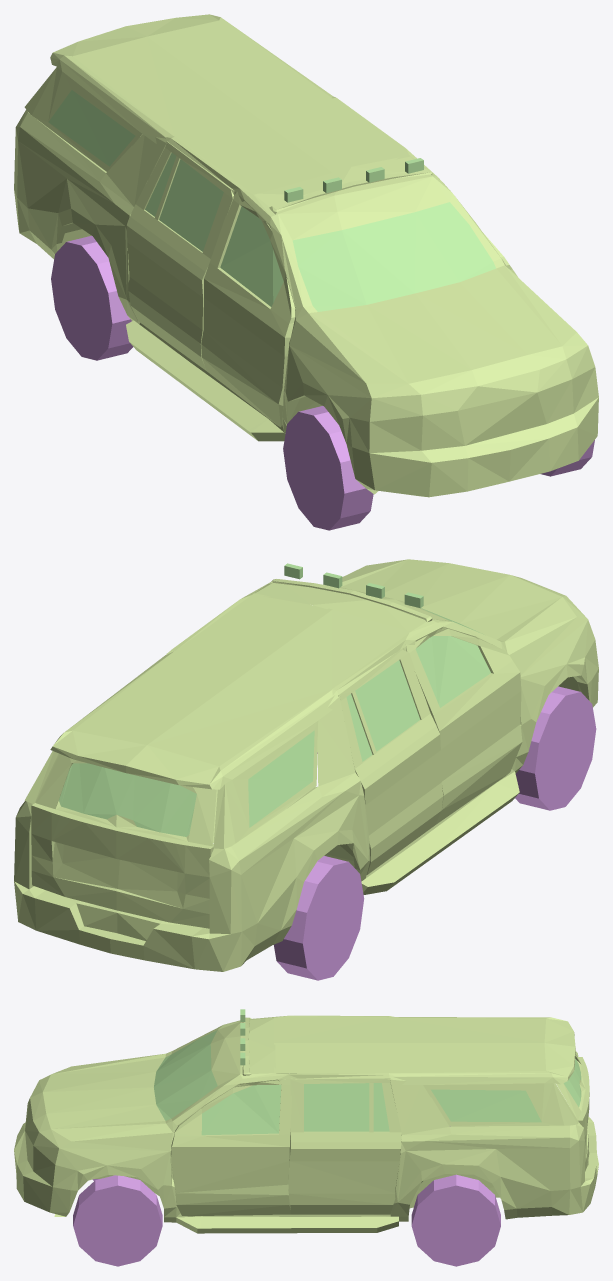
The model's file is land-wheeled-patriot-kodiak.glb.
The picture shows the model from 3 angles, top to bottom: view 1: azimuth 30°, elevation 25°; view 2: azimuth 150°, elevation 25°; view 3: azimuth 270°, elevation 25°; orthographic projection. The views are drawn at different scales.
Parts seen in each view (by area): view 1: CC_WHL_02_SUVBody, CC_WHL_02_Wheel_R_1, CC_WHL_02_Wheel_R_3; view 2: CC_WHL_02_SUVBody, CC_WHL_02_Wheel_R_3, CC_WHL_02_Wheel_R_1; view 3: CC_WHL_02_SUVBody, CC_WHL_02_Wheel_R_2, CC_WHL_02_Wheel_R_0.
Part boxes in pixels (x1=…): CC_WHL_02_SUVBody: x1=14, y1=14, x2=598, y2=497; CC_WHL_02_Wheel_R_1: x1=283, y1=406, x2=373, y2=530; CC_WHL_02_Wheel_R_3: x1=51, y1=235, x2=133, y2=360; CC_WHL_02_SUVBody: x1=14, y1=559, x2=598, y2=971; CC_WHL_02_Wheel_R_3: x1=274, y1=856, x2=364, y2=980; CC_WHL_02_Wheel_R_1: x1=515, y1=686, x2=596, y2=810; CC_WHL_02_SUVBody: x1=14, y1=1009, x2=598, y2=1233; CC_WHL_02_Wheel_R_2: x1=411, y1=1174, x2=500, y2=1266; CC_WHL_02_Wheel_R_0: x1=73, y1=1175, x2=162, y2=1266.
Size of the model in its own units: 2.5 by 2.29 by 6.45.
